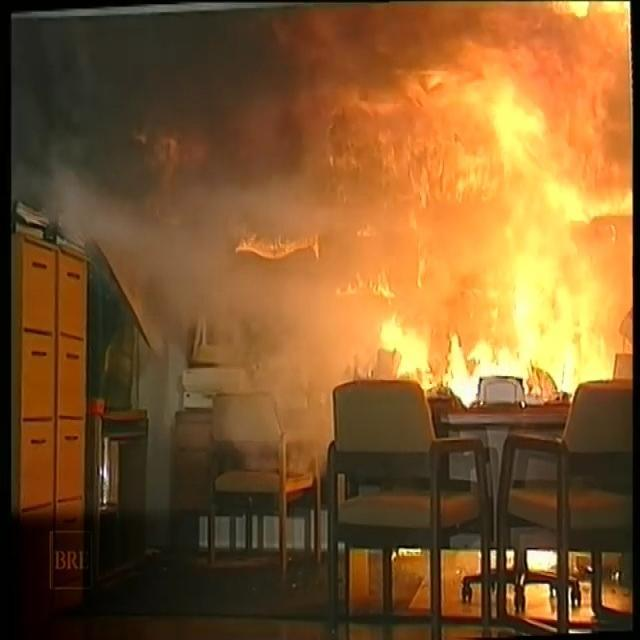Fire: (162, 5, 636, 420)
